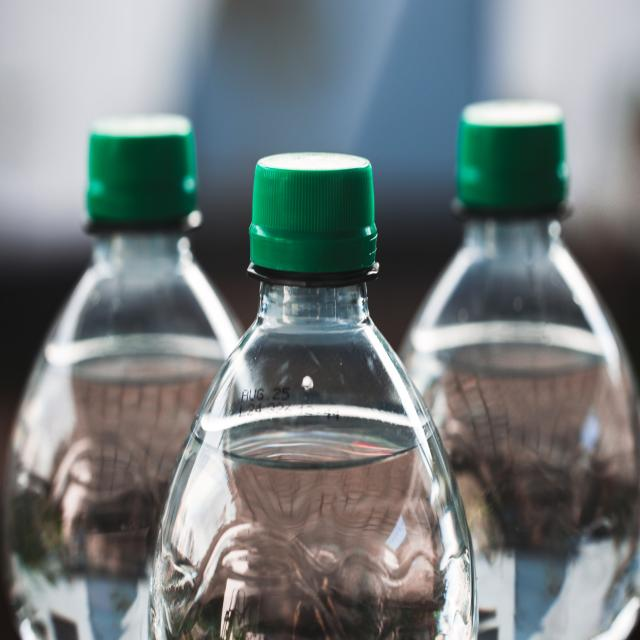Bottle: (150, 154, 476, 639), (401, 102, 639, 639), (3, 116, 238, 639)
